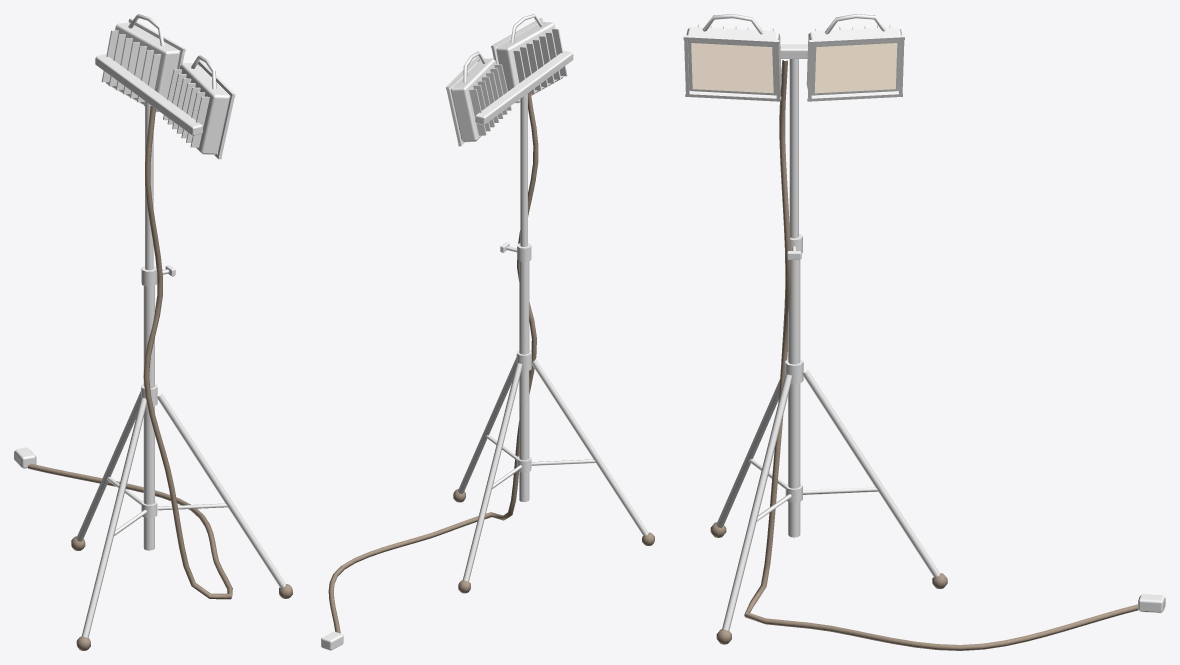
Rendered from floodlight_stand.glb.
3 views of the same model, side by side, from view 1: azimuth 30°, elevation 25°; view 2: azimuth 150°, elevation 25°; view 3: azimuth 270°, elevation 25° (orthographic). The views are drawn at different scales.
Visible parts, largest first — view 1: floodlight_stand; view 2: floodlight_stand; view 3: floodlight_stand.
Part boxes in pixels (<box>): floodlight_stand: <box>14,14,292,650</box>; floodlight_stand: <box>321,14,654,650</box>; floodlight_stand: <box>683,14,1165,650</box>.
Bounding box in the file's own units: 0.9764 × 2.24 × 1.65.
Materials: 5 (4 with a texture image).
